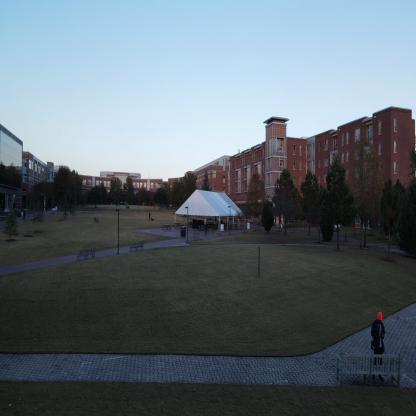Wolf Ridge: (223, 93, 415, 250)
